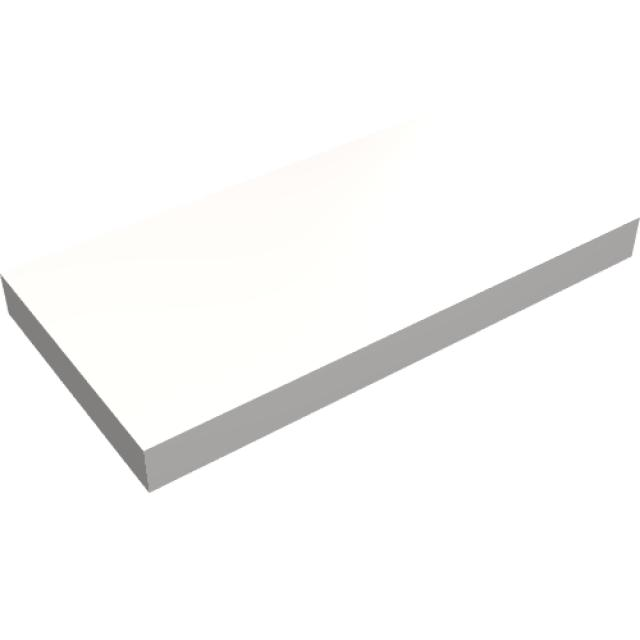White_Small: (0, 78, 640, 494)
